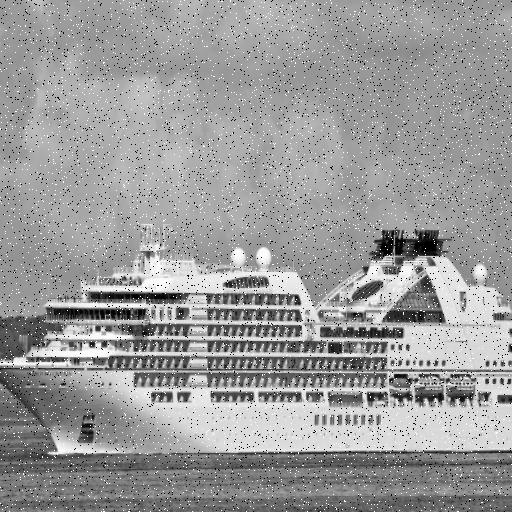cruises: (1, 195, 512, 470)
